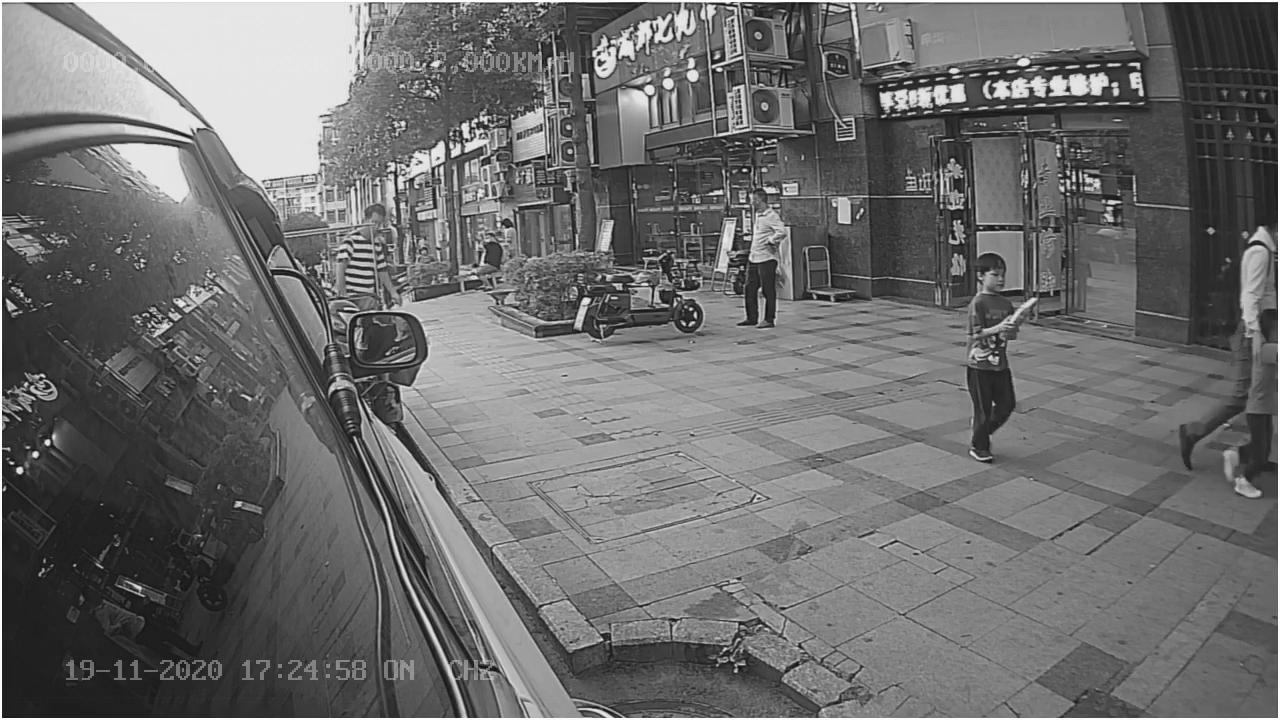person: (947, 249, 1029, 470)
